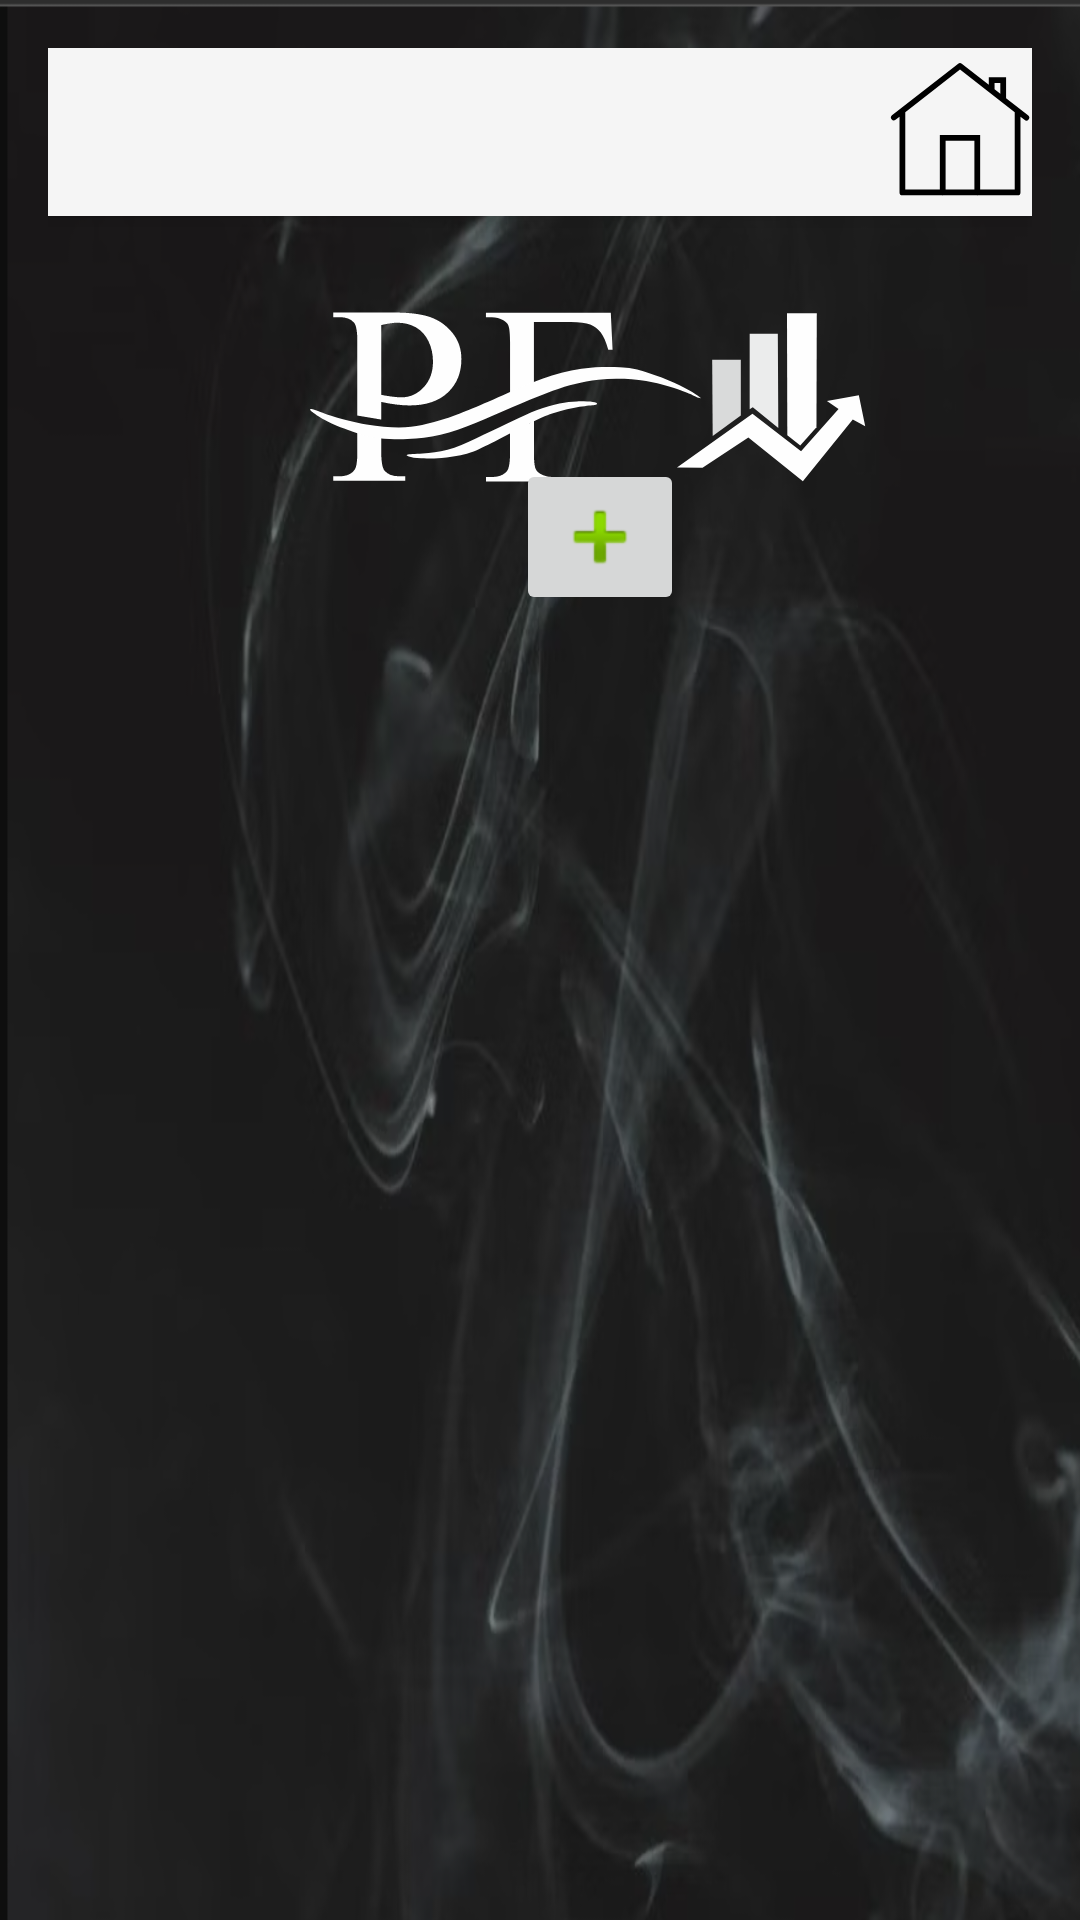

Screen size 1080×1920. Icon name, then its box in pixels as (x1, y1, x2, y2):
add: (516, 459, 684, 615)
Go to home activity: (890, 63, 1030, 196)
